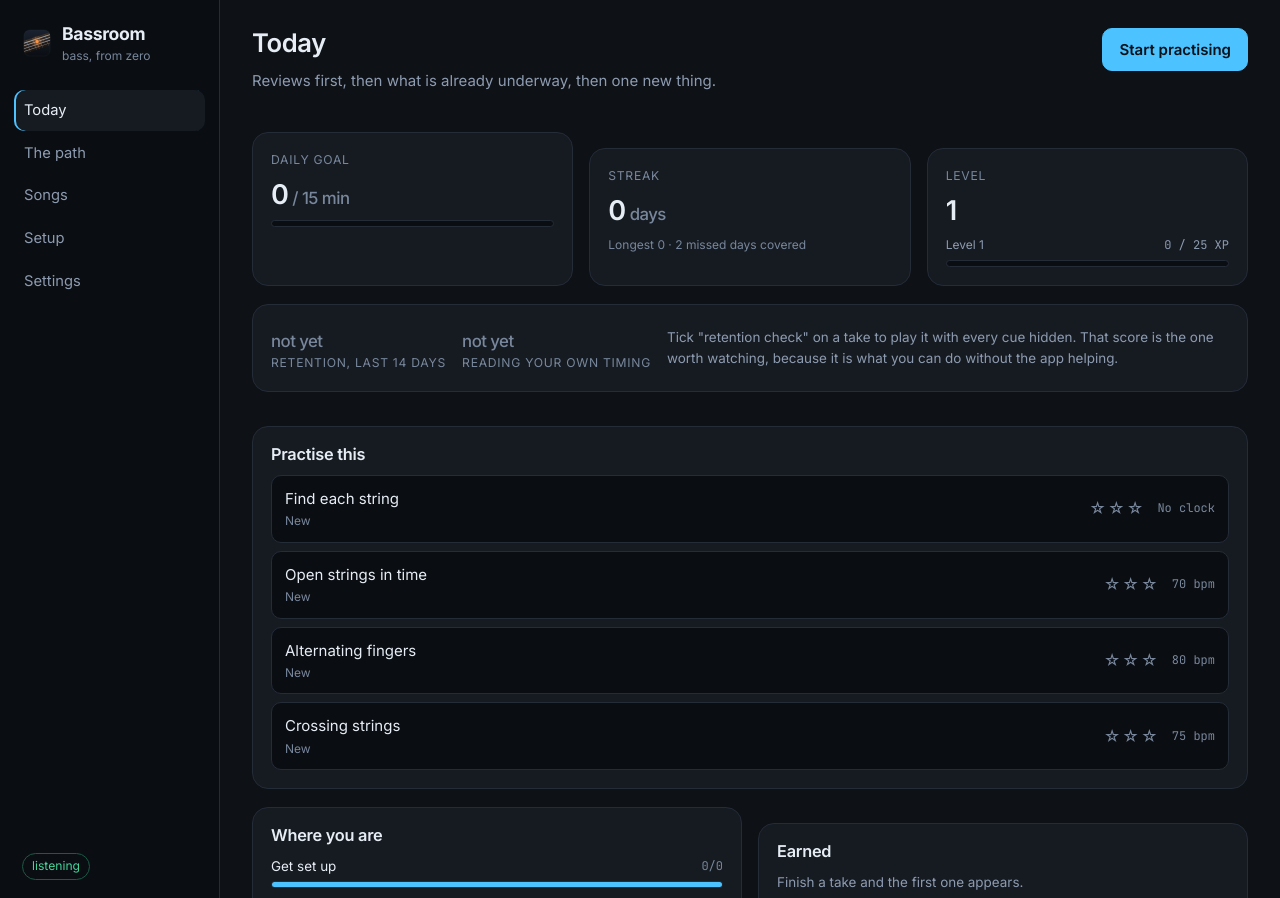
Test: the practice screen with the input running › starts in the count-in
Step 1. Click the button "The path" → (110, 153), box top-left (14, 133), bottom-right (205, 174)
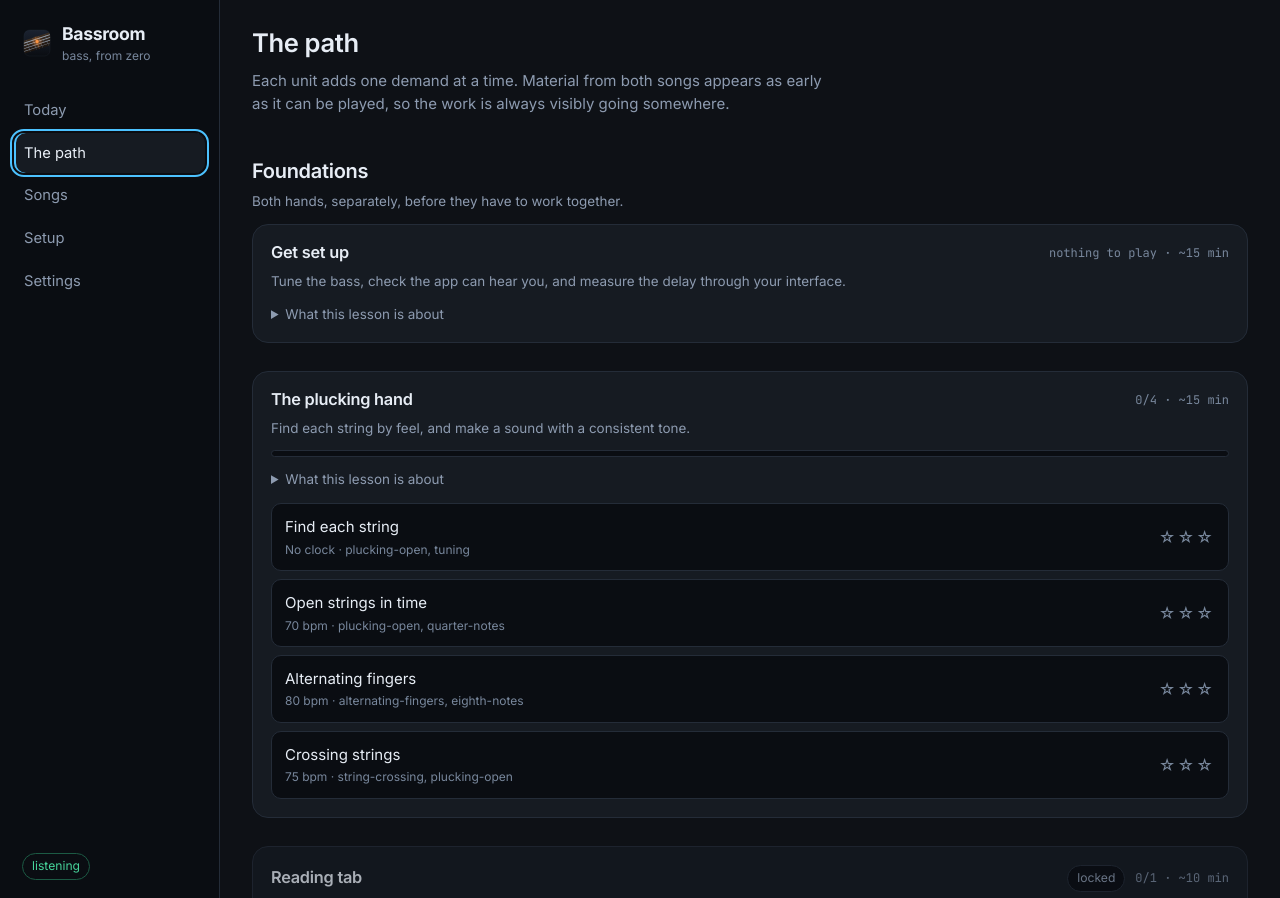
Step 2. Click the button "Open strings in time" → (356, 603), box top-left (271, 579), bottom-right (1229, 647)
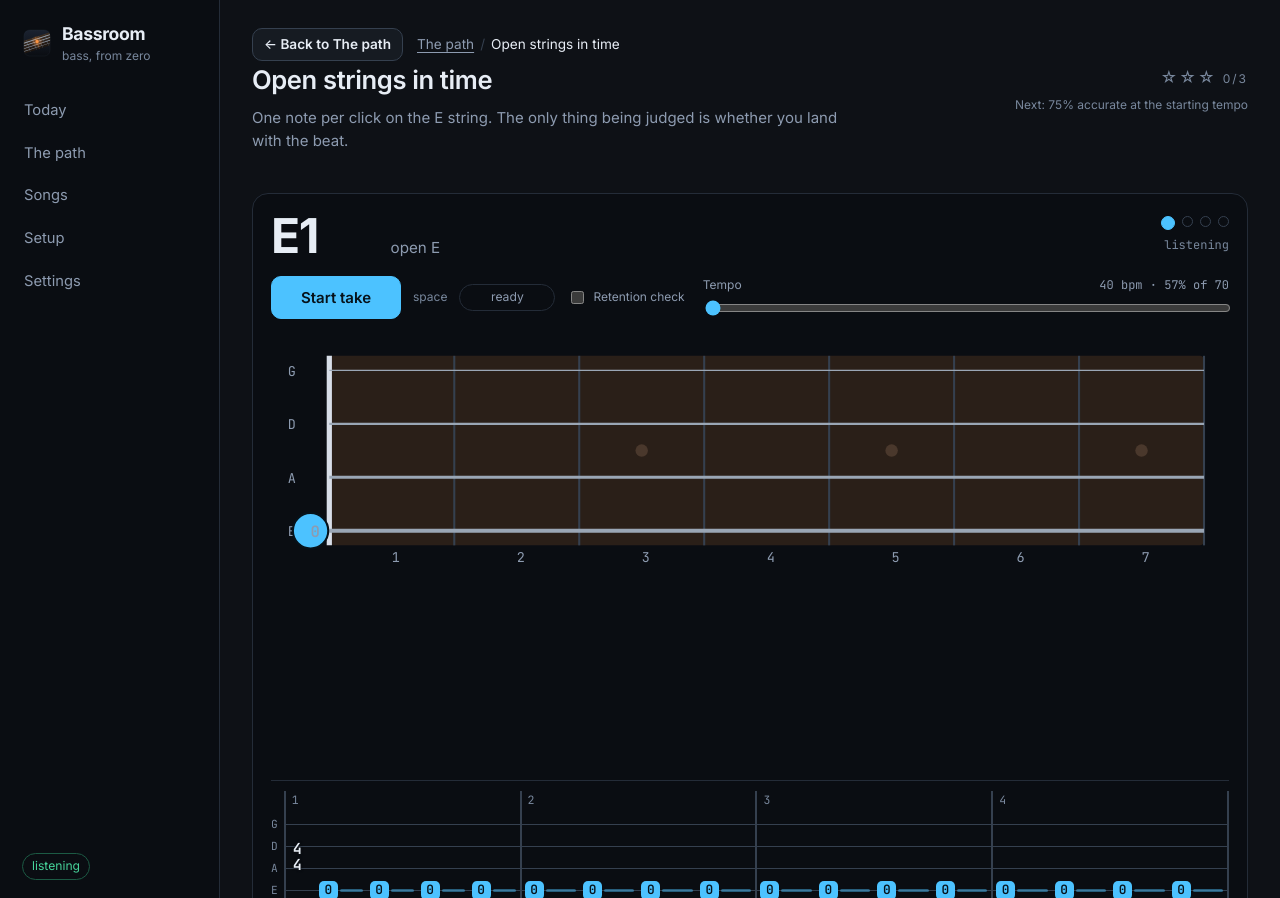
Step 3. Click the button "Start take" → (336, 297), box top-left (271, 276), bottom-right (401, 319)
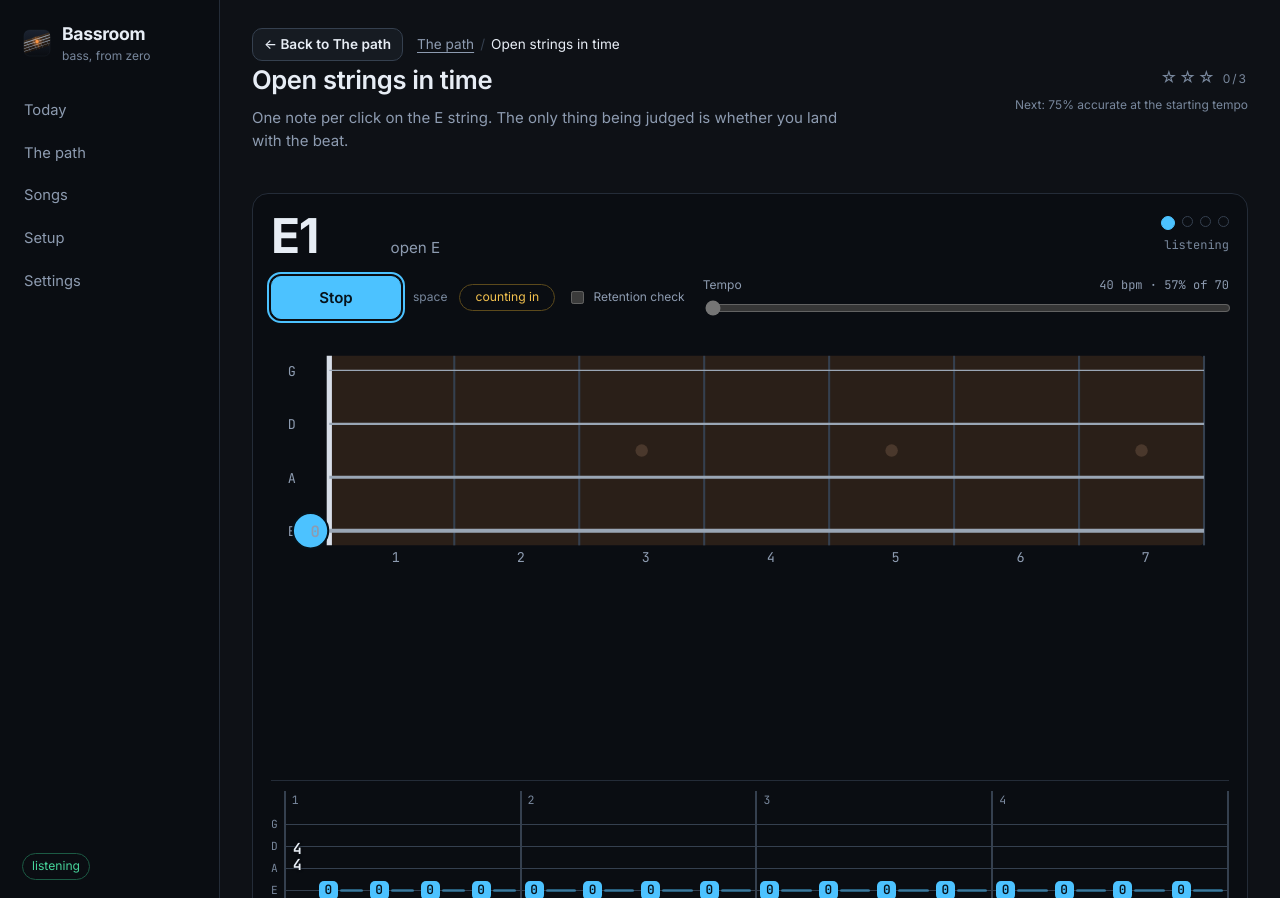
Check: the text "counting in" is shown, box top-left (459, 284), bottom-right (555, 310)
